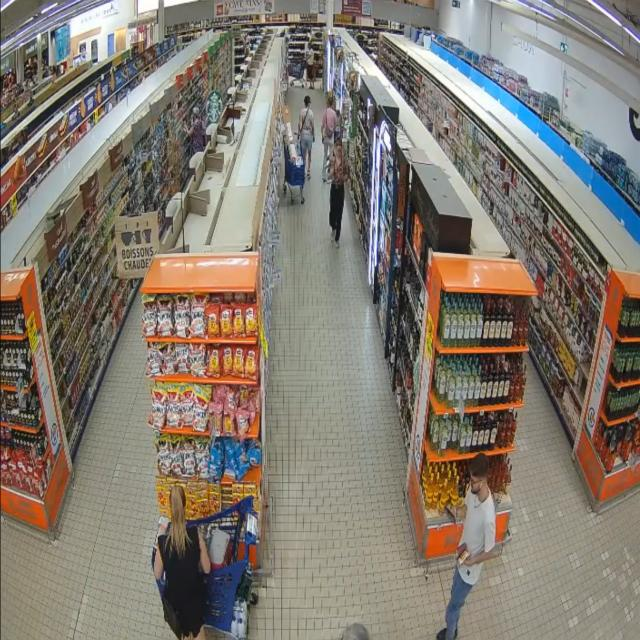article: (454, 542, 468, 565), (457, 548, 471, 564)
bags: (162, 597, 183, 639), (323, 112, 334, 144), (299, 108, 309, 135)
hands: (463, 556, 476, 566), (158, 524, 167, 535), (451, 506, 458, 519), (313, 136, 315, 143)
person: (437, 454, 497, 639), (155, 487, 210, 639), (329, 127, 346, 247), (322, 95, 337, 181), (299, 95, 314, 177), (188, 107, 205, 154)
